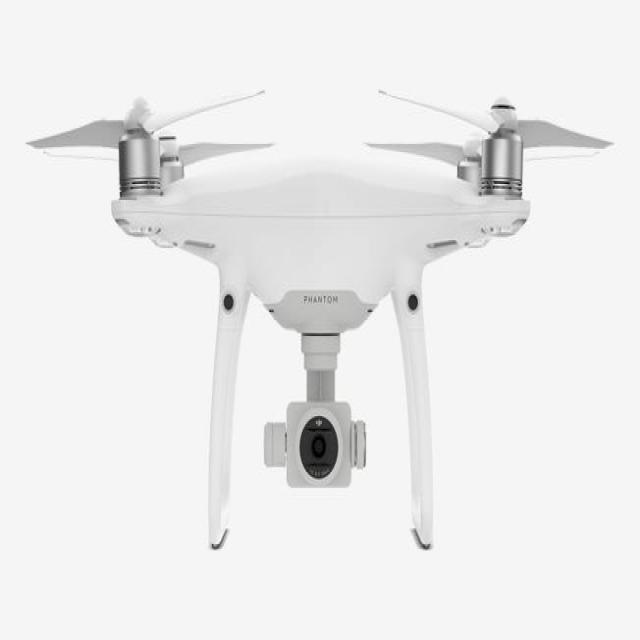drone: (41, 54, 636, 472)
